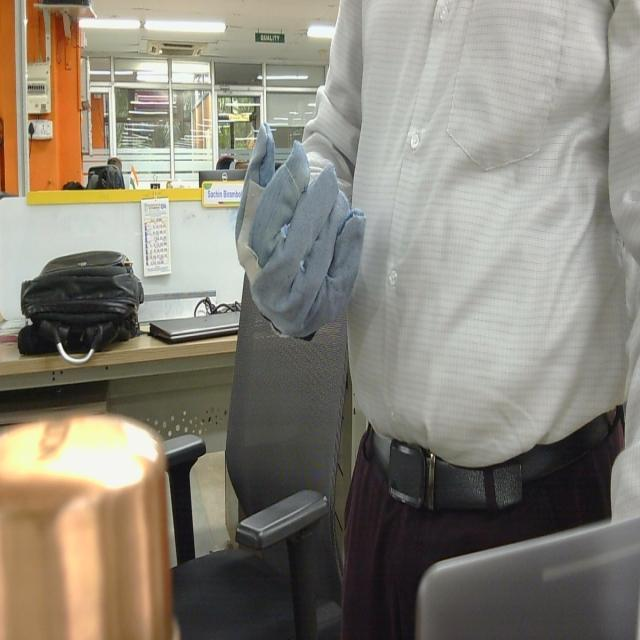Gloves-Detection: (231, 119, 367, 347)
